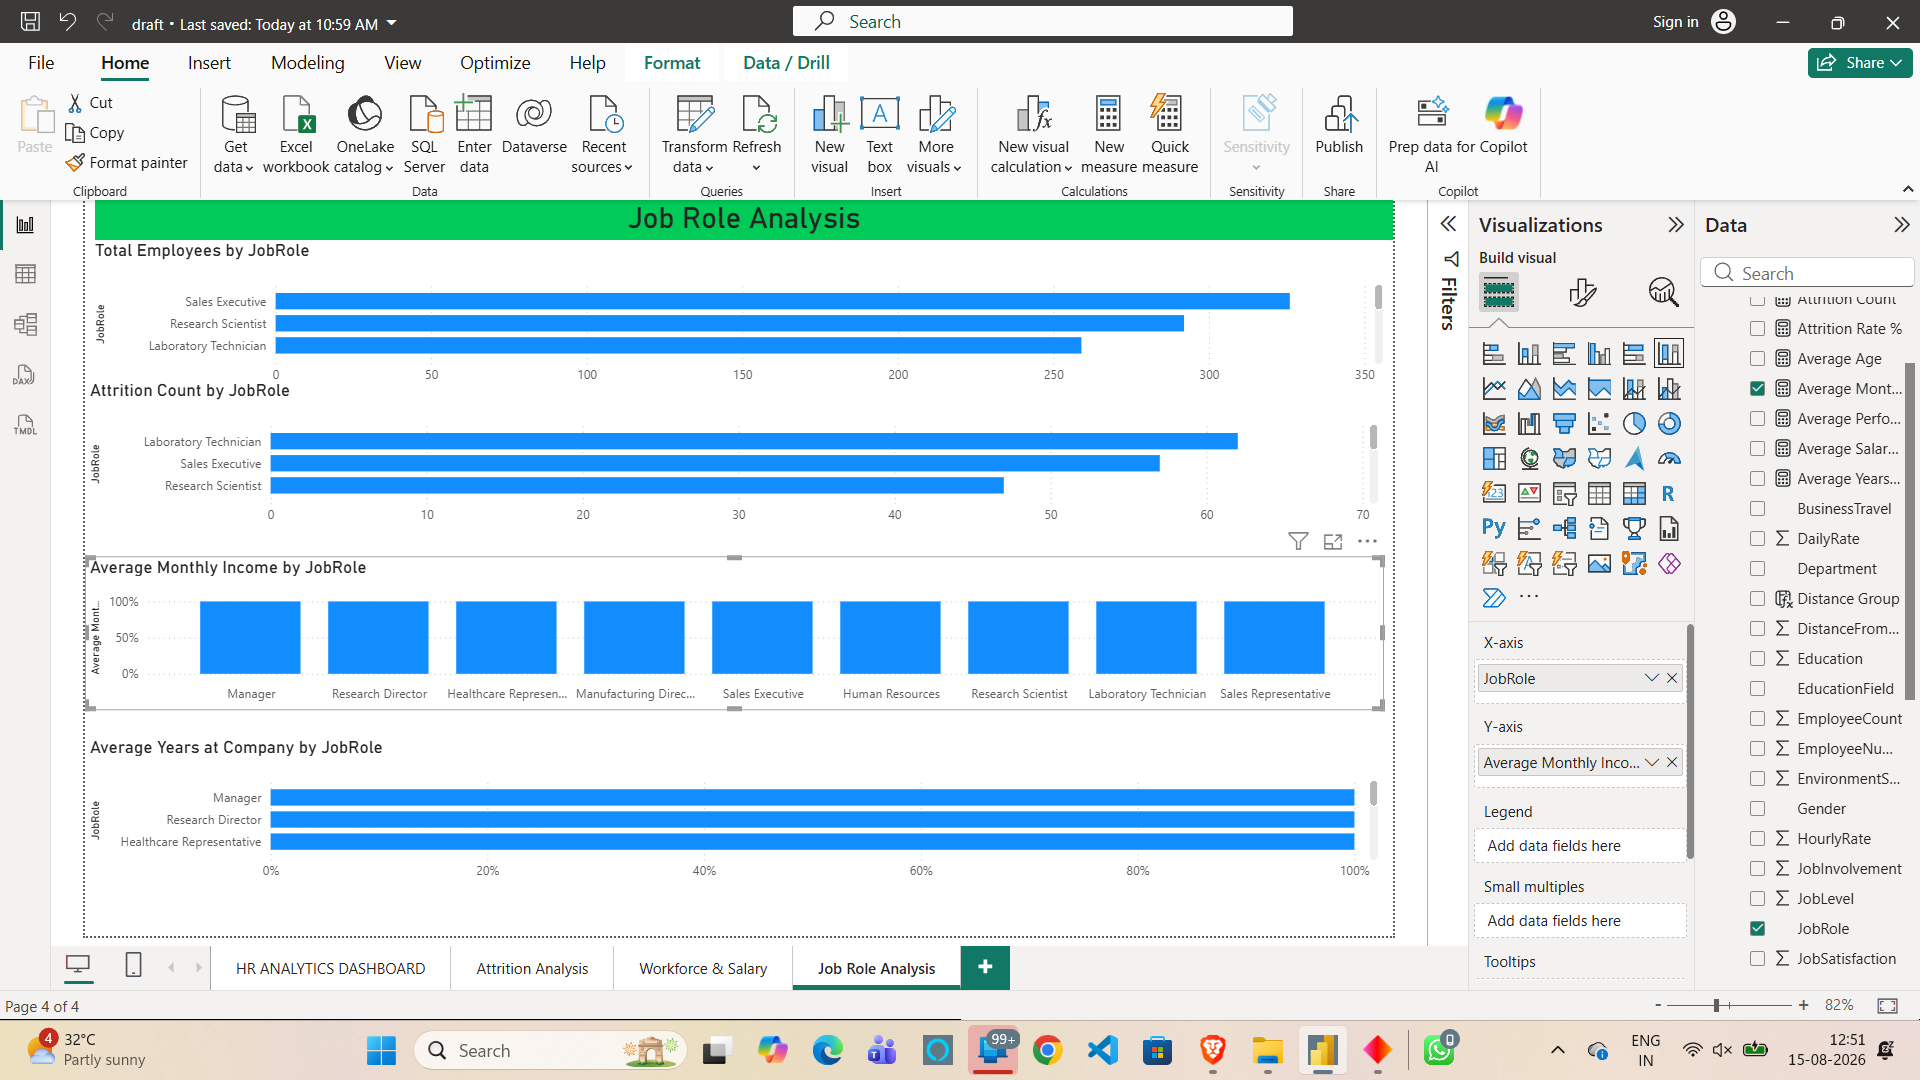

What the dashboard file says about the page in this screenshot:
{"tool":"powerbi","page":{"name":"Job Role Analysis","canvas":[1280,720],"ordinal":3},"visuals":[{"type":"textbox","title":"Job Role Analysis","box":[0,0,1280.3,39.1],"z":0},{"type":"barChart","fields":{"Category":["HR.JobRole"],"Y":["HR.Total Employees"]},"box":[5.6,61.2,592.7,286.6],"z":1000},{"type":"barChart","fields":{"Category":["HR.JobRole"],"Y":["HR.Attrition Count"]},"box":[598.3,61.2,672,286.6],"z":2000},{"type":"barChart","fields":{"Category":["HR.JobRole"],"Y":["HR.Average Monthly Income"]},"box":[0,348.5,639.5,371.7],"z":3000},{"type":"hundredPercentStackedBarChart","fields":{"Category":["HR.JobRole"],"Y":["HR.Average Years at Company"]},"box":[639.5,385.2,631,335.1],"z":4000},{"type":"pageNavigator","box":[0,39.8,1280,20.5],"z":7000},{"type":"listSlicer","fields":{"Values":["HR.BusinessTravel"]},"box":[0,335.4,222,132.7],"z":7001}]}

Visuals, with their boxes on the page's 1280x720 design canvas (x1, y1, x2, y2). These are canvas units, not pixel positions in the 1920x1080 screenshot, which may show the page scaled, cropped or inside an application window:
"Job Role Analysis" textbox: [0,0,1280,39]
barChart - HR.JobRole x HR.Total Employees: [6,61,598,348]
barChart - HR.JobRole x HR.Attrition Count: [598,61,1270,348]
barChart - HR.JobRole x HR.Average Monthly Income: [0,348,640,720]
hundredPercentStackedBarChart - HR.JobRole x HR.Average Years at Company: [640,385,1270,720]
pageNavigator: [0,40,1280,60]
listSlicer - HR.BusinessTravel: [0,335,222,468]
